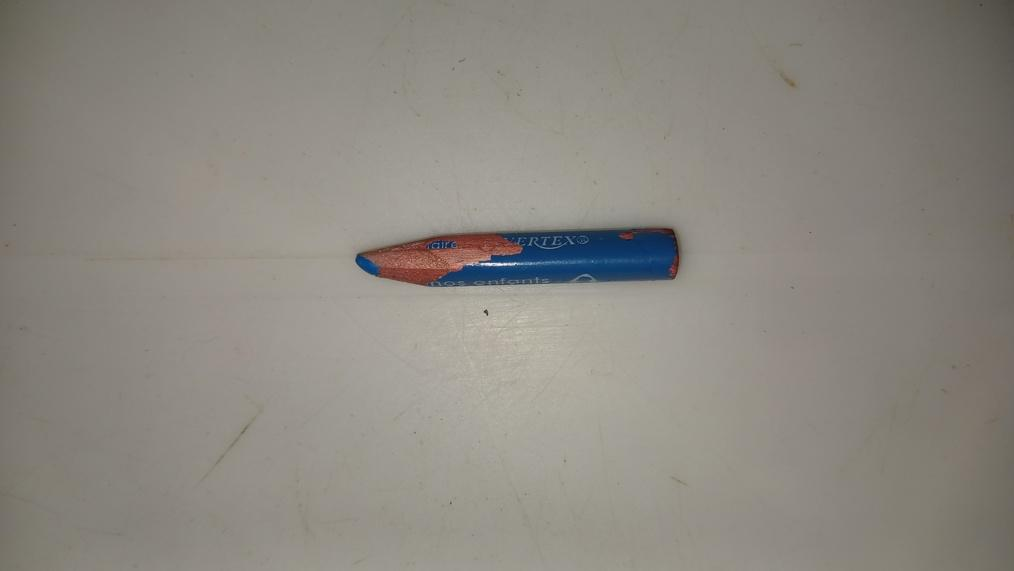Pencil: (351, 224, 677, 284)
